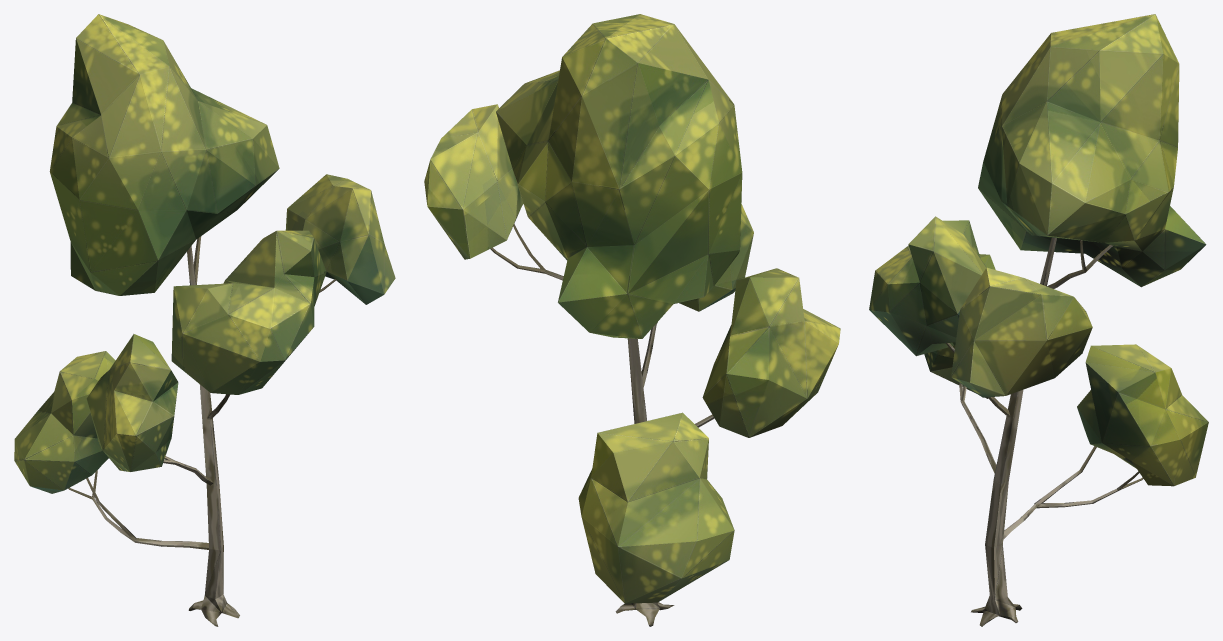
Rendered from elm_tree_-_low_poly.glb.
3 renders of one model, left to right at view 1: azimuth 30°, elevation 25°; view 2: azimuth 150°, elevation 25°; view 3: azimuth 270°, elevation 25°, orthographic. The views are drawn at different scales.
Parts seen in each view (by area): view 1: Icosphere.001; view 2: Icosphere.001; view 3: Icosphere.001.
Part boxes in pixels (box(x1,y1,x2,y2)): Icosphere.001: box(14, 14, 395, 626); Icosphere.001: box(424, 14, 840, 626); Icosphere.001: box(869, 14, 1208, 626).
Bounding box in the file's own units: 1018 × 1803 × 952.
Materials: 1 (1 with a texture image).
